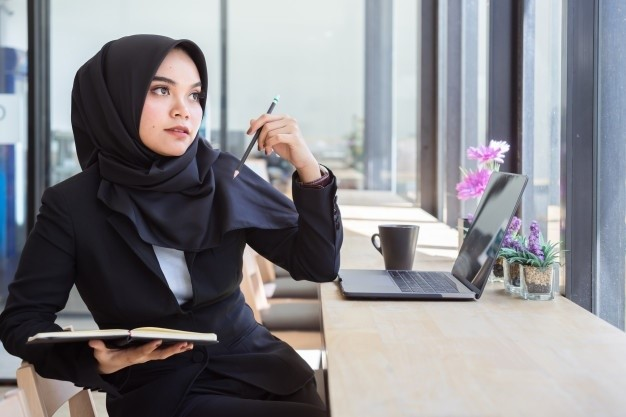face_no_mask: (117, 40, 215, 165)
